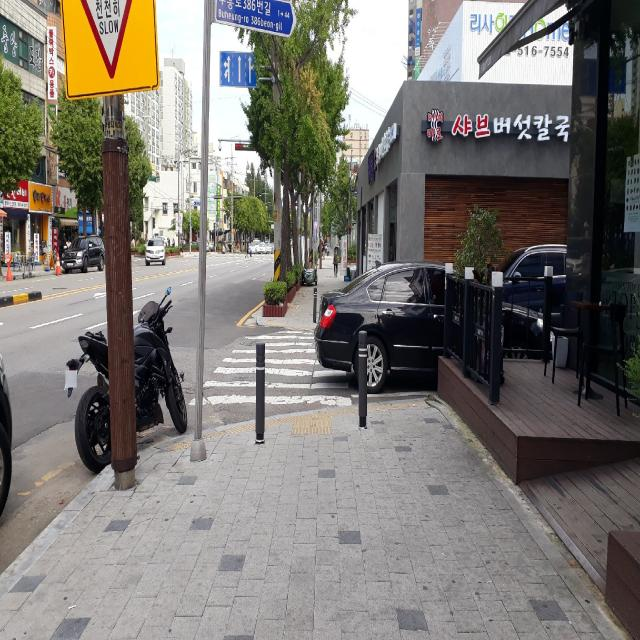횡단보도: (187, 328, 353, 409)
